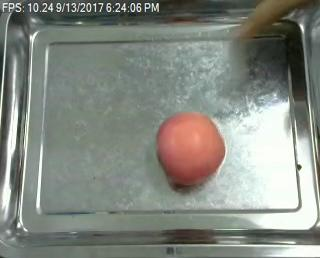apple: (156, 111, 227, 187)
